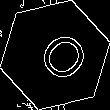O_SW: (22, 22, 88, 88)
